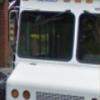stairs: (6, 0, 100, 100)
